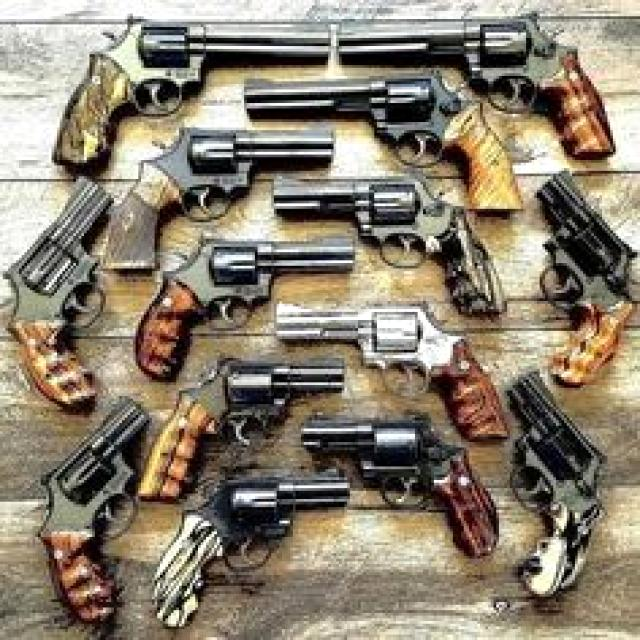revolver: (39, 0, 336, 176)
